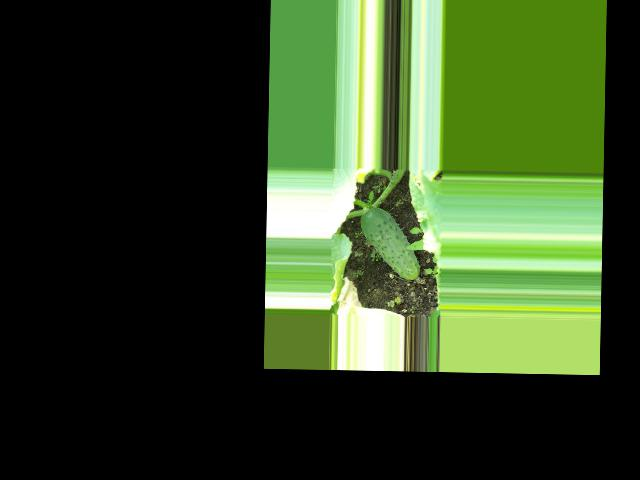cucumber: (359, 206, 421, 280)
